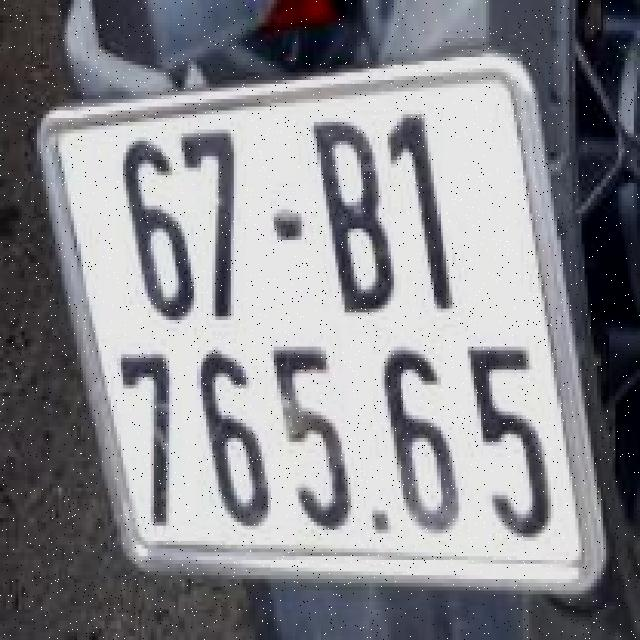1: (375, 103, 479, 330)
5: (455, 333, 565, 544), (260, 338, 366, 538)
6: (365, 342, 480, 540), (185, 336, 291, 533), (105, 135, 208, 334)
7: (171, 121, 269, 328), (108, 345, 198, 539)
B: (304, 113, 412, 330)
